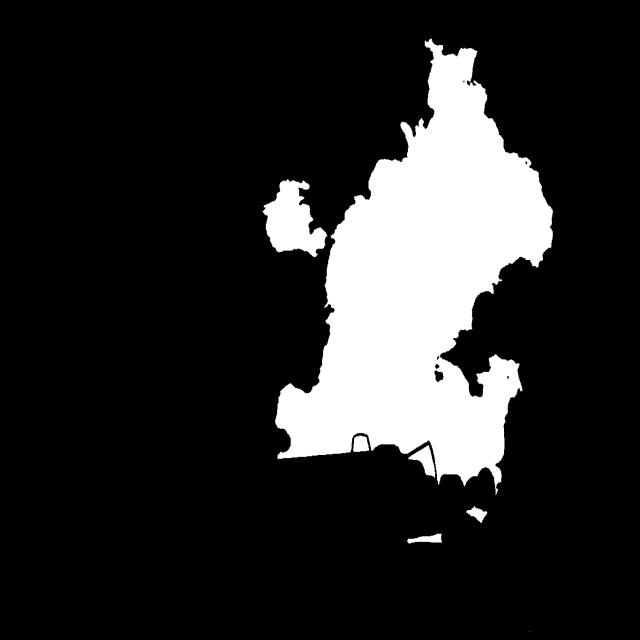fire: (231, 11, 541, 548)
